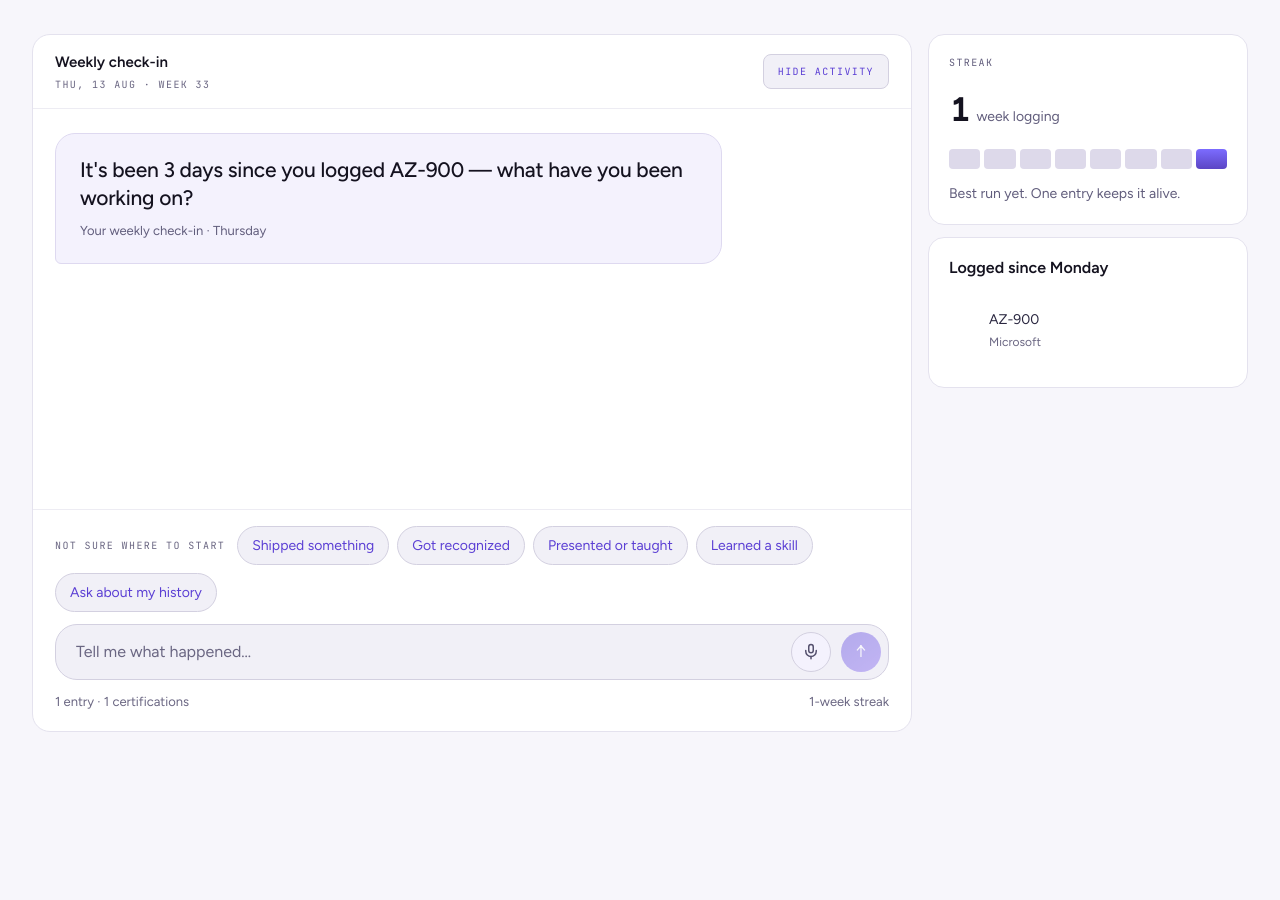
accessibility (audit §A4–A7) › §A7 — retry names the message it will resend
The width and height of the screenshot is (1280, 900).
In the text box labelled "Tell me what happened…": coordinates (428, 652) [76,632,781,672], type "I shipped the migration"
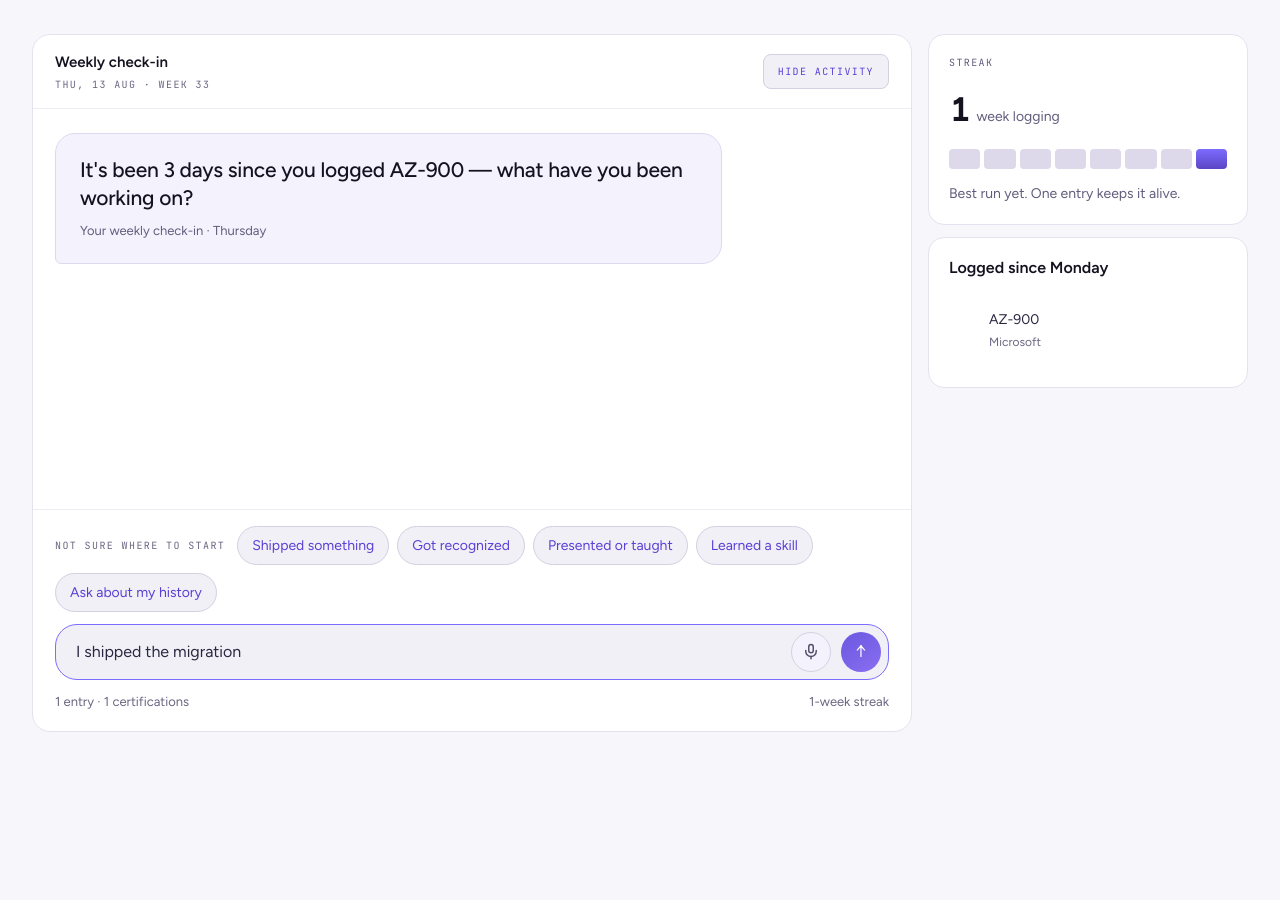
Click the button named "send message": coordinates (861, 652) [841,632,881,672]
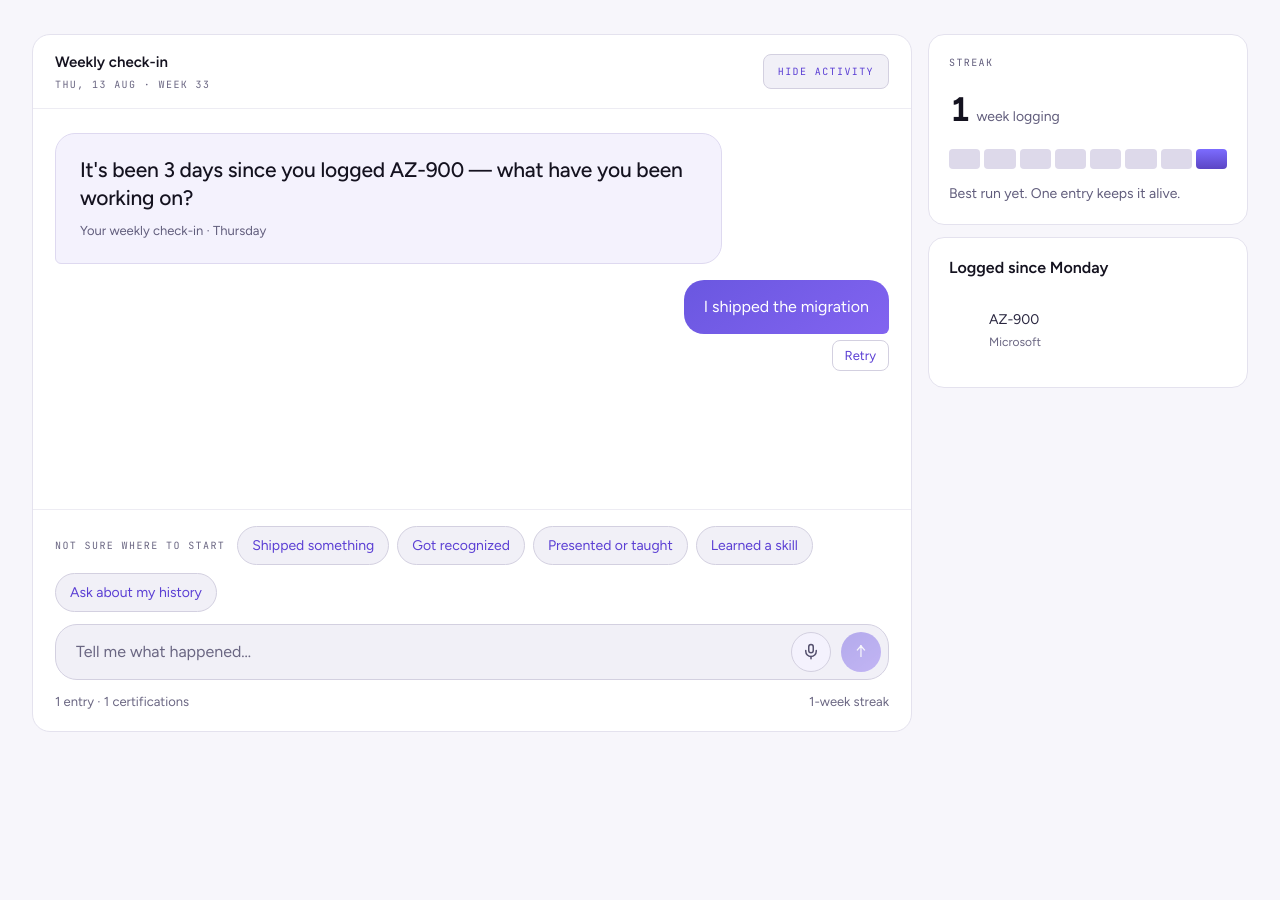
Now the button with aria-label "retry sending: I shipped the migration" is shown, box [832,340,889,371]
